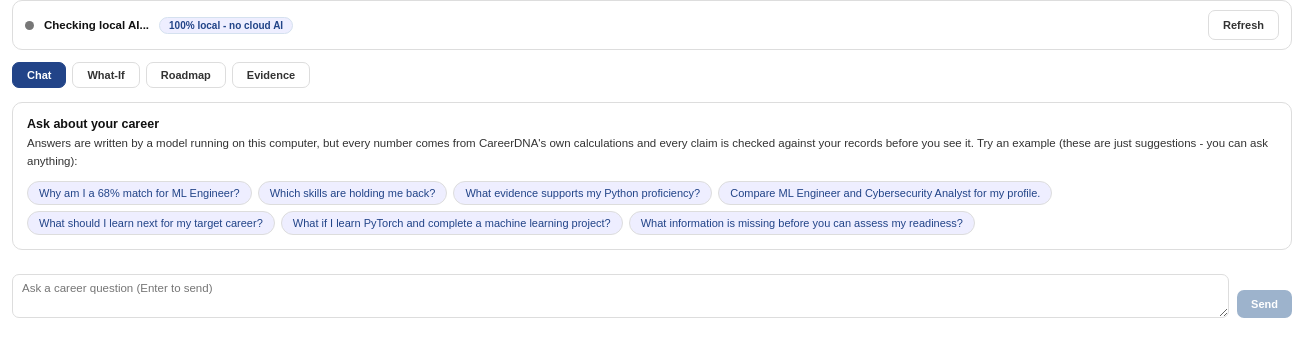
chat › labels hypothetical answers
What coordinates should you click on to do the following:
click the button "What if I learn PyTorch"
I would click on:
 (452, 223)
Its box is left=281, top=211, right=623, bottom=235.
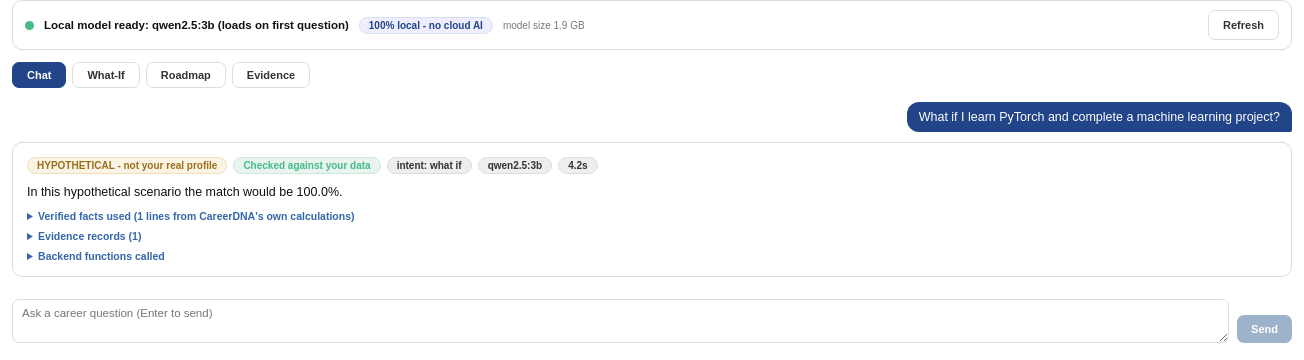
Now the text "HYPOTHETICAL - not your real profile" is shown, box left=27, top=157, right=227, bottom=174
